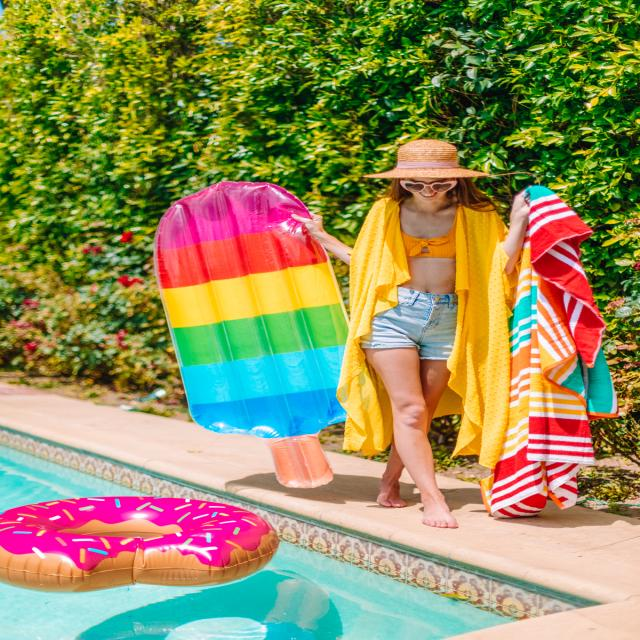adult: (288, 140, 531, 532)
